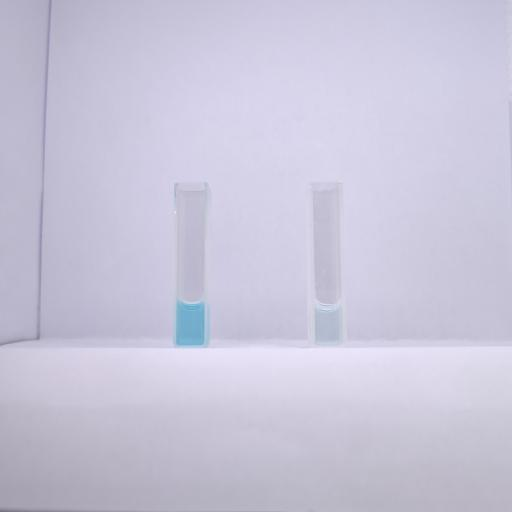cuvette: (307, 180, 349, 350), (171, 179, 210, 349)
liquid: (177, 301, 204, 344), (316, 302, 340, 346)
